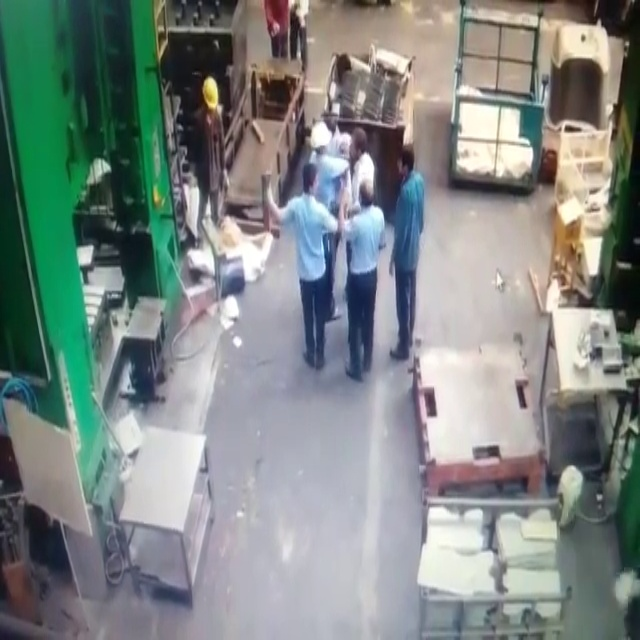safety_helmet: (556, 464, 584, 529), (310, 121, 332, 149), (201, 76, 219, 110)
